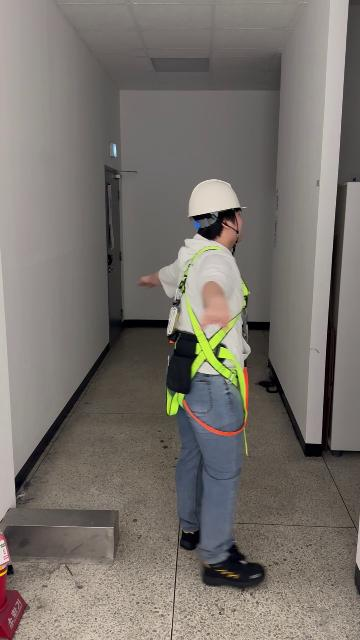helmet_worn: (186, 178, 248, 218)
shoe_worn: (202, 552, 265, 587), (180, 527, 199, 552)
vest_worn: (167, 251, 252, 427)
